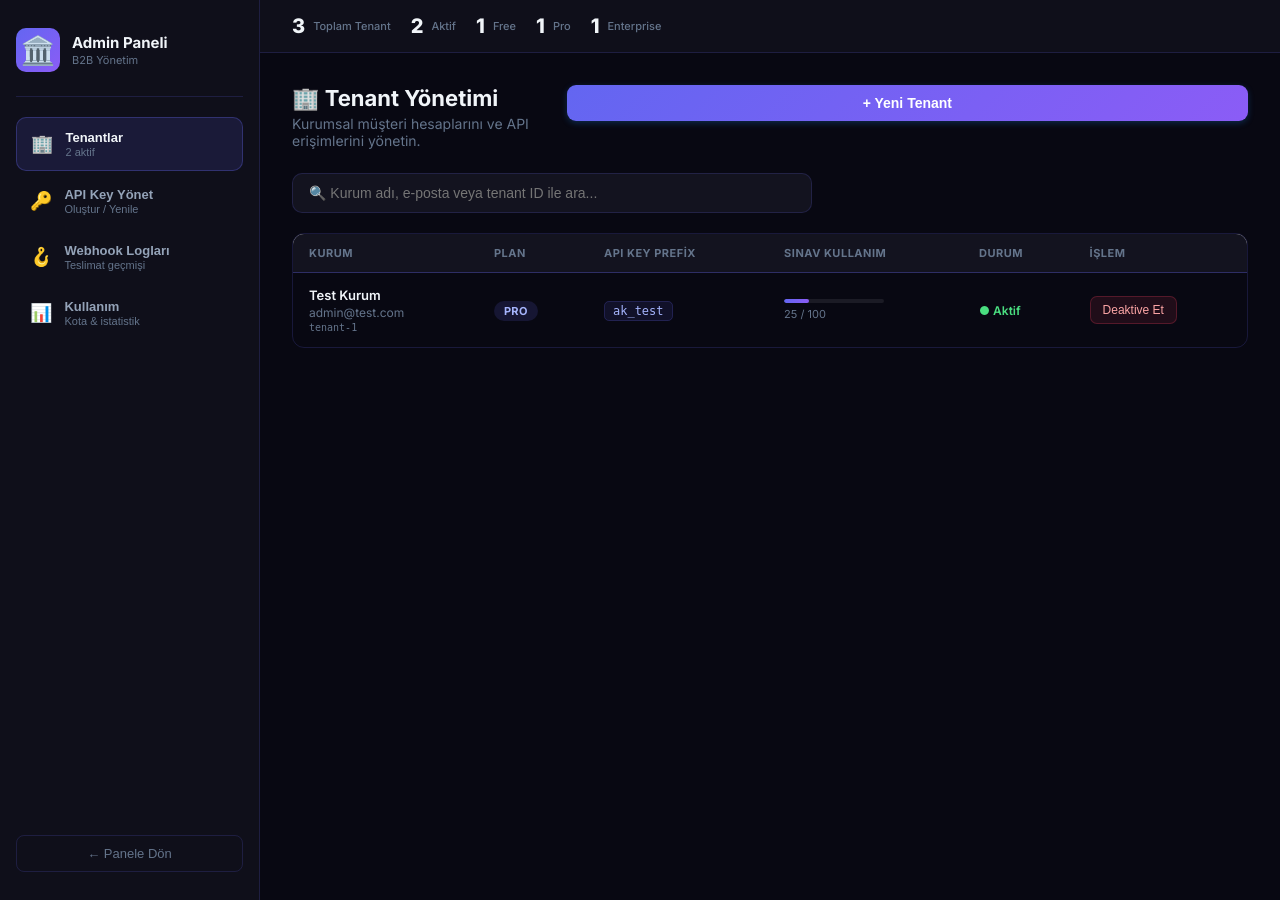
AdminPanel › API Key Yönet tabında api key yenilenmeli
The width and height of the screenshot is (1280, 900).
Click the text "API Key Yönet": click(109, 194) [64,187,153,202]
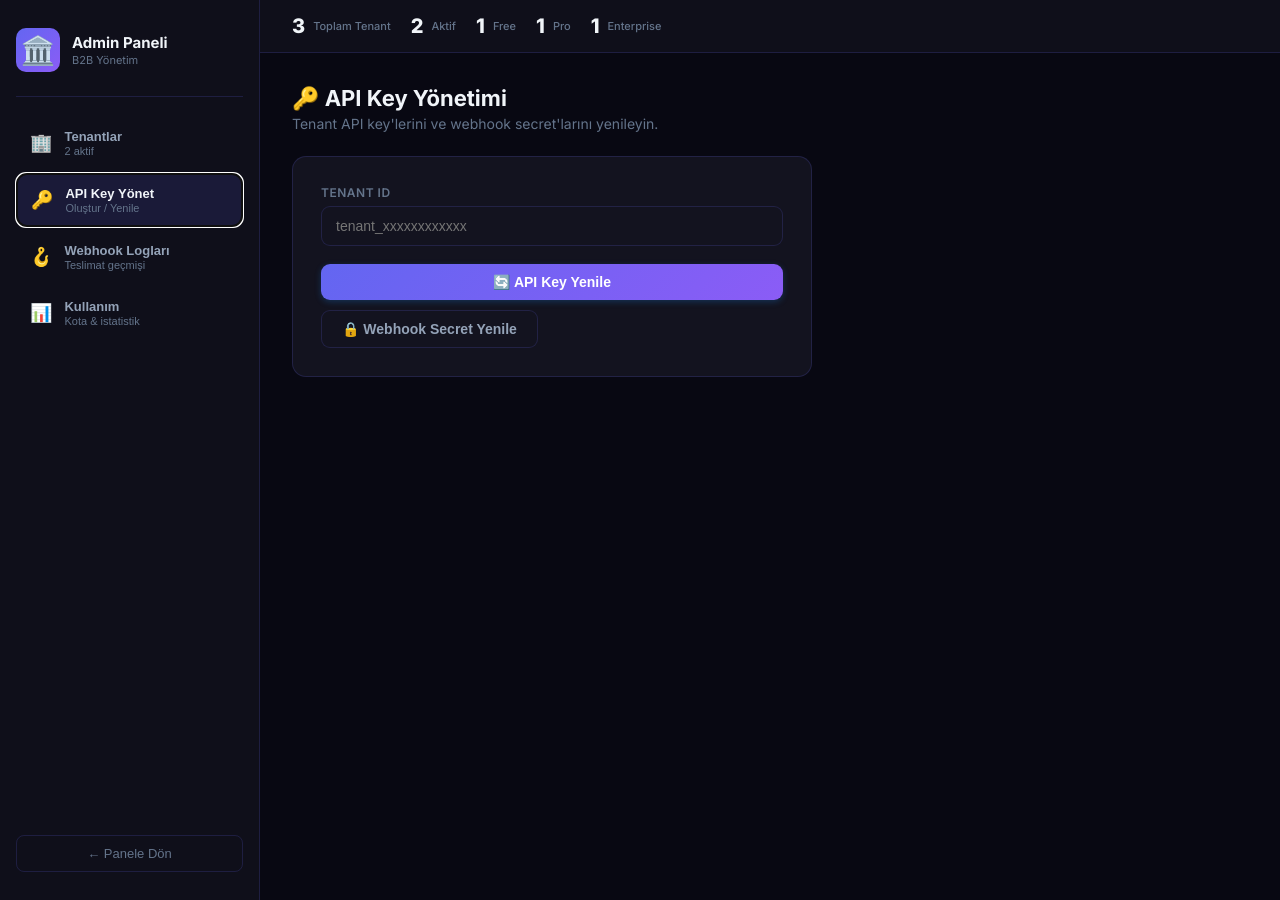
In the field with placeholder "tenant_xxxxxxxxxxxx": (552, 226) [321,206,783,246], type "tenant-1"
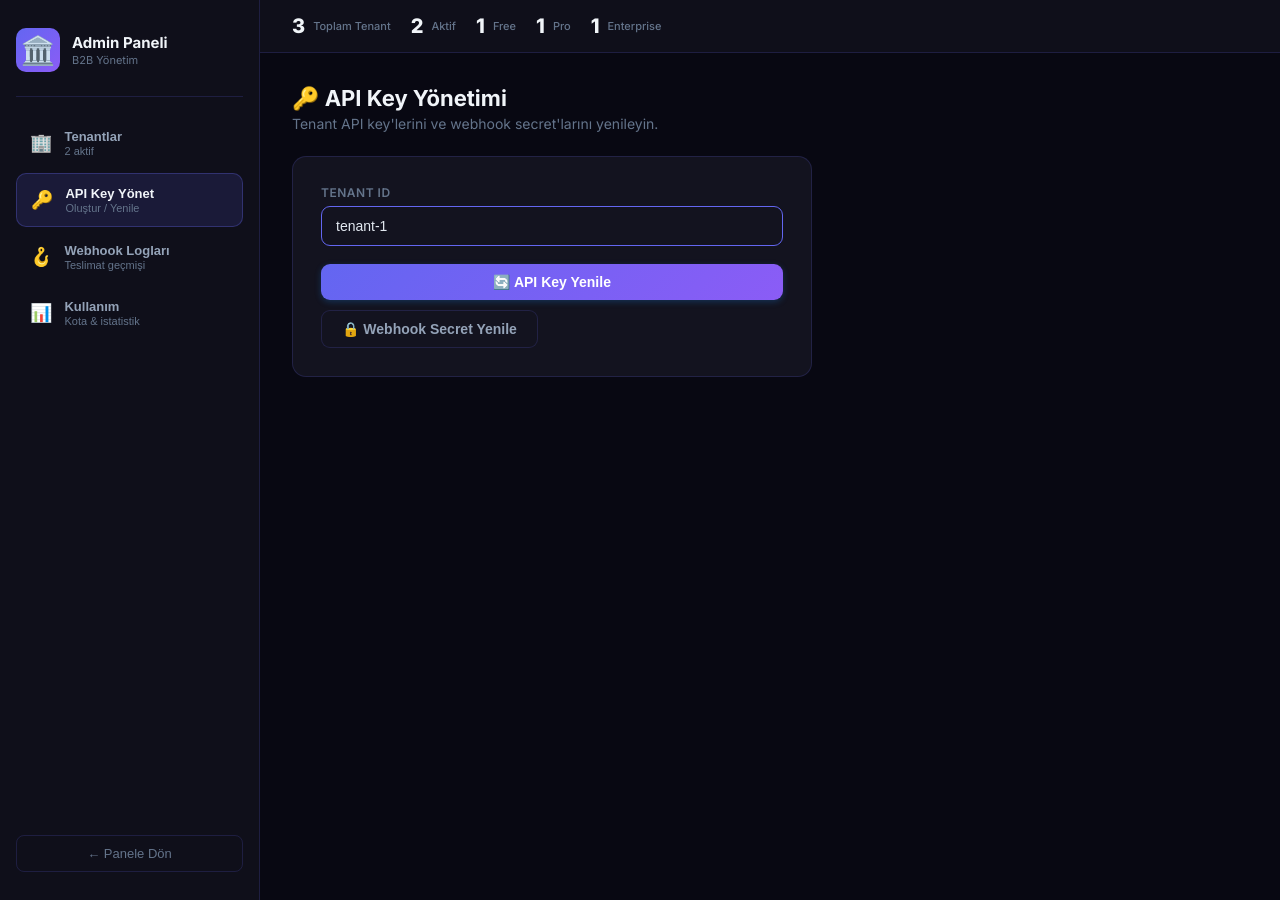
Click the button "🔄 API Key Yenile": click(552, 282) [321,264,783,300]
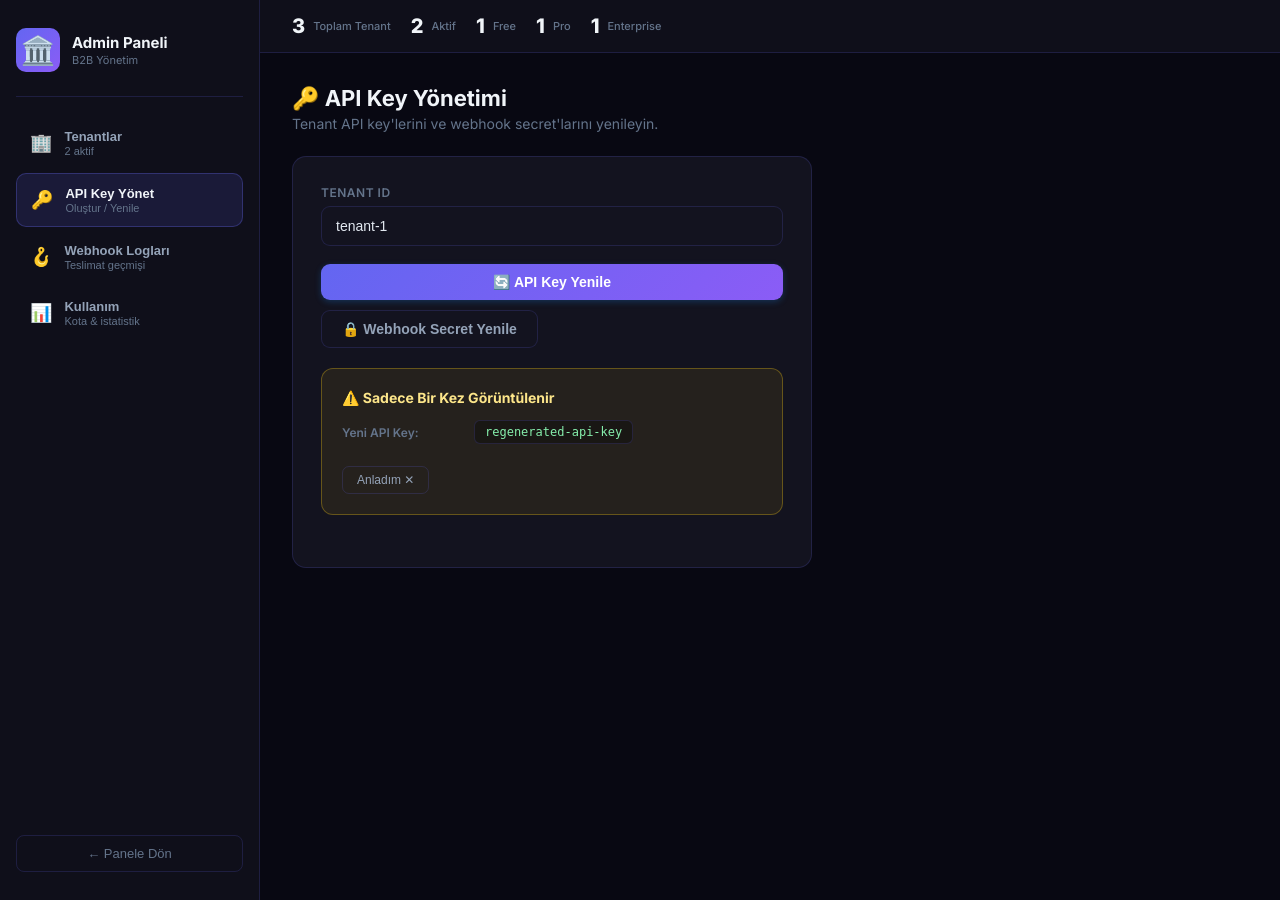
Expected: the text "regenerated-api-key" is shown, [474,420,633,444]
